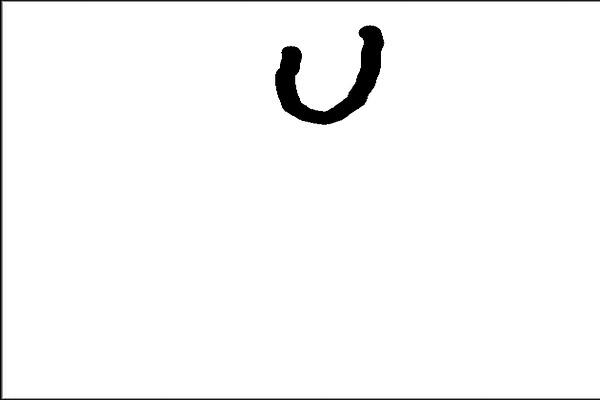U: (270, 7, 386, 127)
